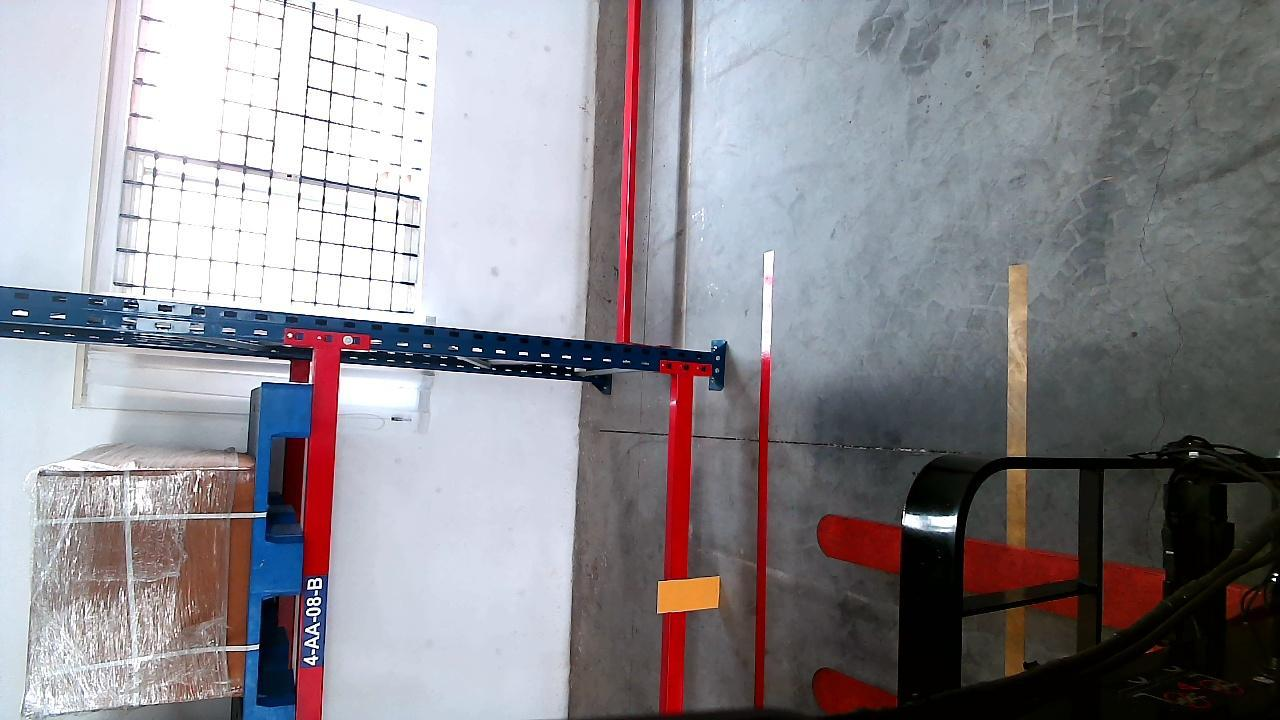red_line: (753, 251, 776, 709)
yellow_line: (1003, 256, 1027, 674)
